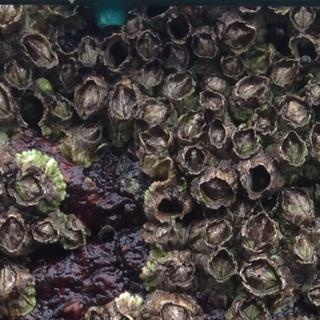Barnacle: (241, 256, 280, 292), (11, 171, 43, 207), (111, 81, 139, 120), (23, 35, 56, 66), (245, 214, 273, 250), (72, 80, 100, 116), (176, 111, 206, 141), (4, 55, 31, 88), (0, 215, 26, 249), (282, 190, 310, 219), (222, 24, 253, 50), (165, 70, 193, 98), (281, 134, 303, 167), (201, 177, 231, 200), (203, 220, 230, 245), (233, 128, 257, 156), (57, 56, 79, 86), (273, 60, 301, 83), (144, 127, 168, 153), (0, 260, 18, 294), (284, 99, 309, 123), (212, 250, 233, 278), (142, 60, 162, 89), (79, 118, 101, 144), (239, 76, 266, 97), (209, 118, 227, 148), (296, 233, 315, 261), (168, 263, 192, 285), (142, 101, 166, 123), (183, 146, 204, 171), (49, 98, 70, 123), (137, 31, 156, 58), (193, 32, 215, 55), (160, 302, 188, 320), (79, 37, 97, 65), (165, 46, 187, 68), (293, 5, 314, 28), (200, 90, 224, 110), (249, 53, 271, 73), (0, 1, 20, 23), (255, 109, 275, 130), (155, 221, 176, 240), (238, 302, 259, 320), (222, 57, 241, 75), (62, 229, 82, 246), (308, 80, 320, 106), (35, 222, 54, 238), (203, 75, 224, 89), (309, 287, 320, 304), (89, 312, 104, 320)
